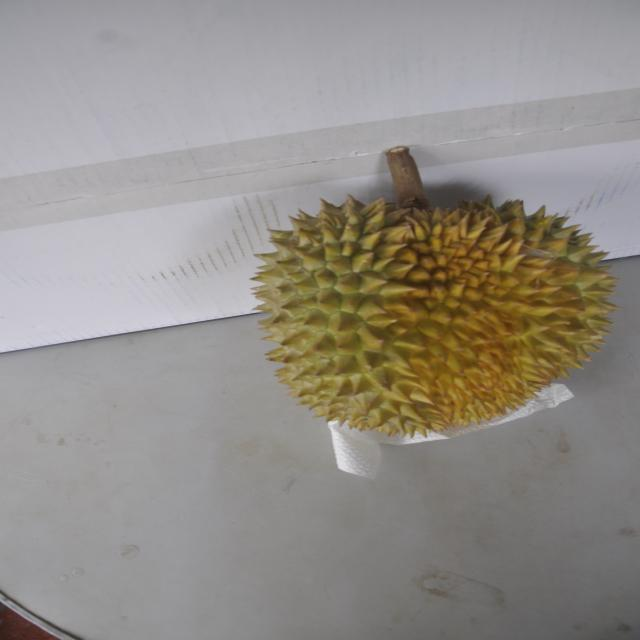mature: (243, 178, 615, 440)
